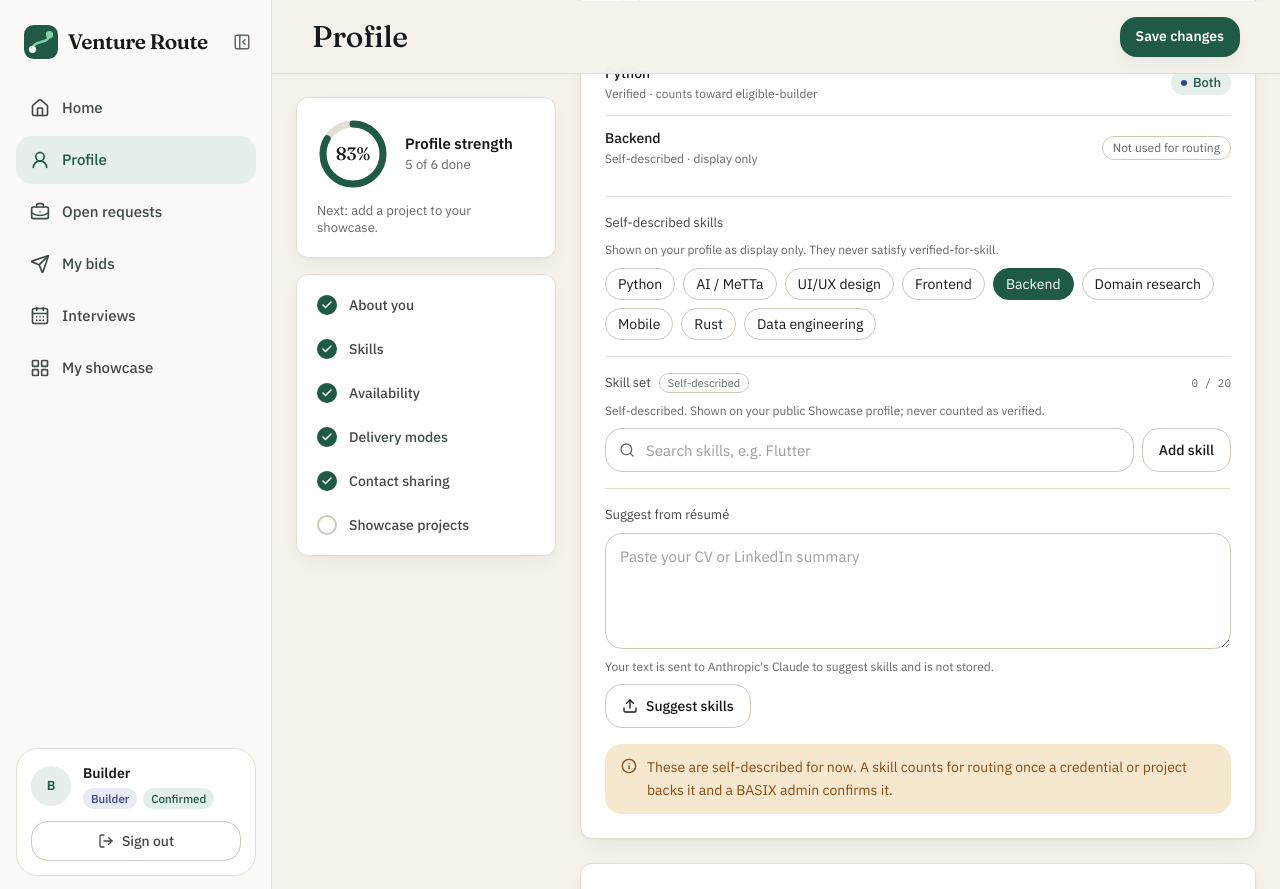
Test: /profile skill set and résumé suggestions (spec #86 stories 17-28) › suggests the nine vocabulary skills, accepts free text, and ignores a case-insensitive duplicate (acceptance §Part A Should 1)
(page scrolled)
Type "Growth hacking" into the field labelled "Skill set" at [869, 450], box [605, 428, 1134, 472]
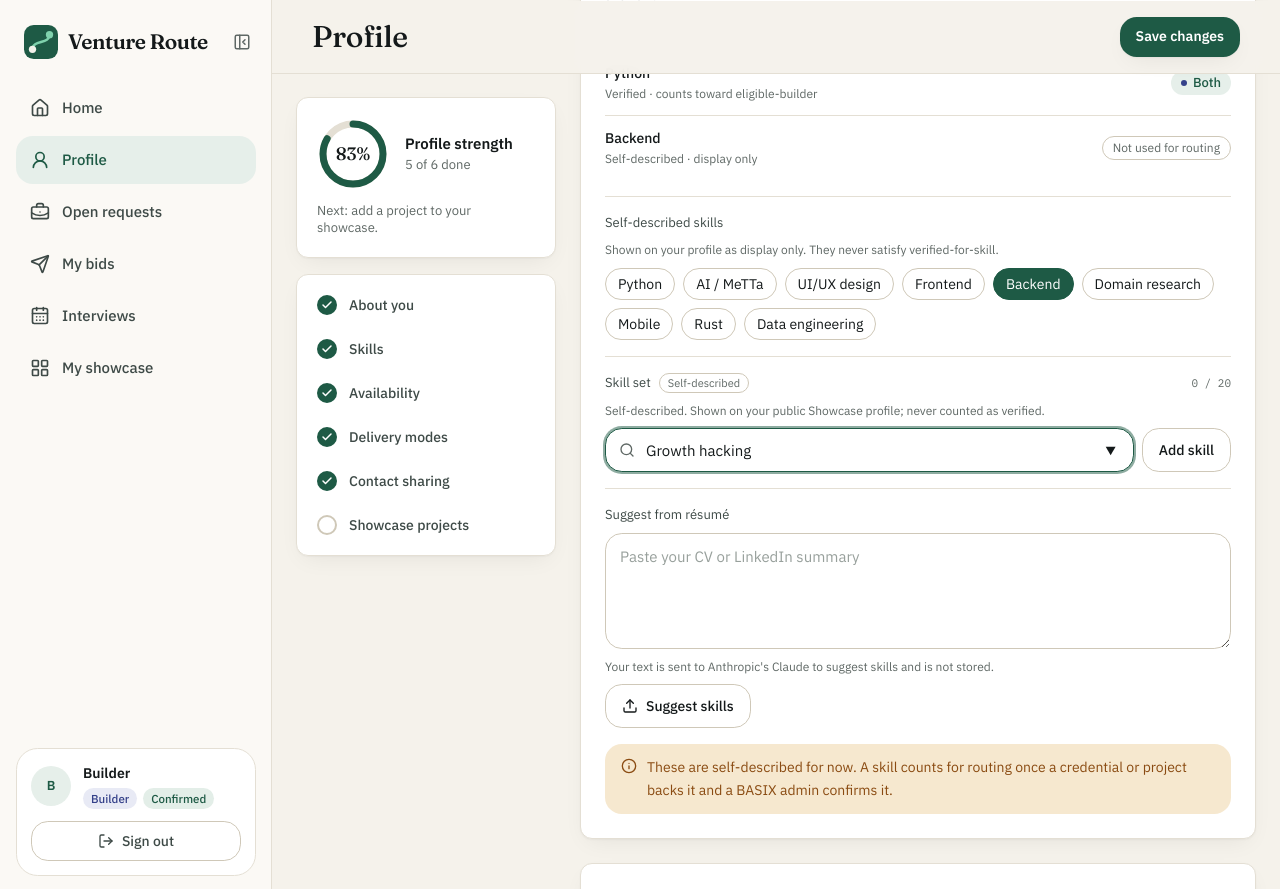
Click the button "Add skill" at [1186, 450], box [1142, 428, 1231, 472]
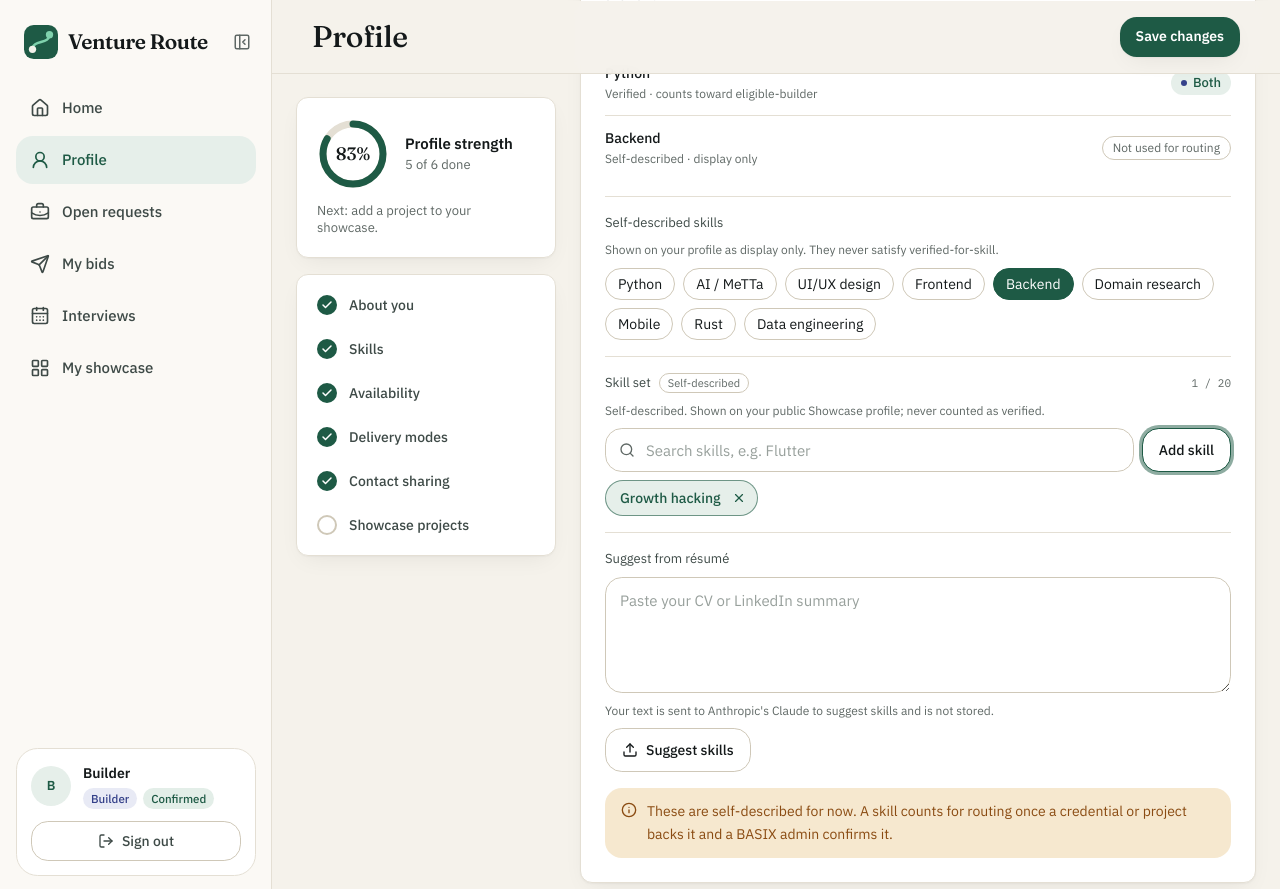
Result: the text "Growth hacking" is shown at [620, 488, 721, 509]
Result: the text "1 / 20" is shown at [1191, 375, 1231, 391]
Type "growth hacking" into the field labelled "Skill set" at [869, 450], box [605, 428, 1134, 472]
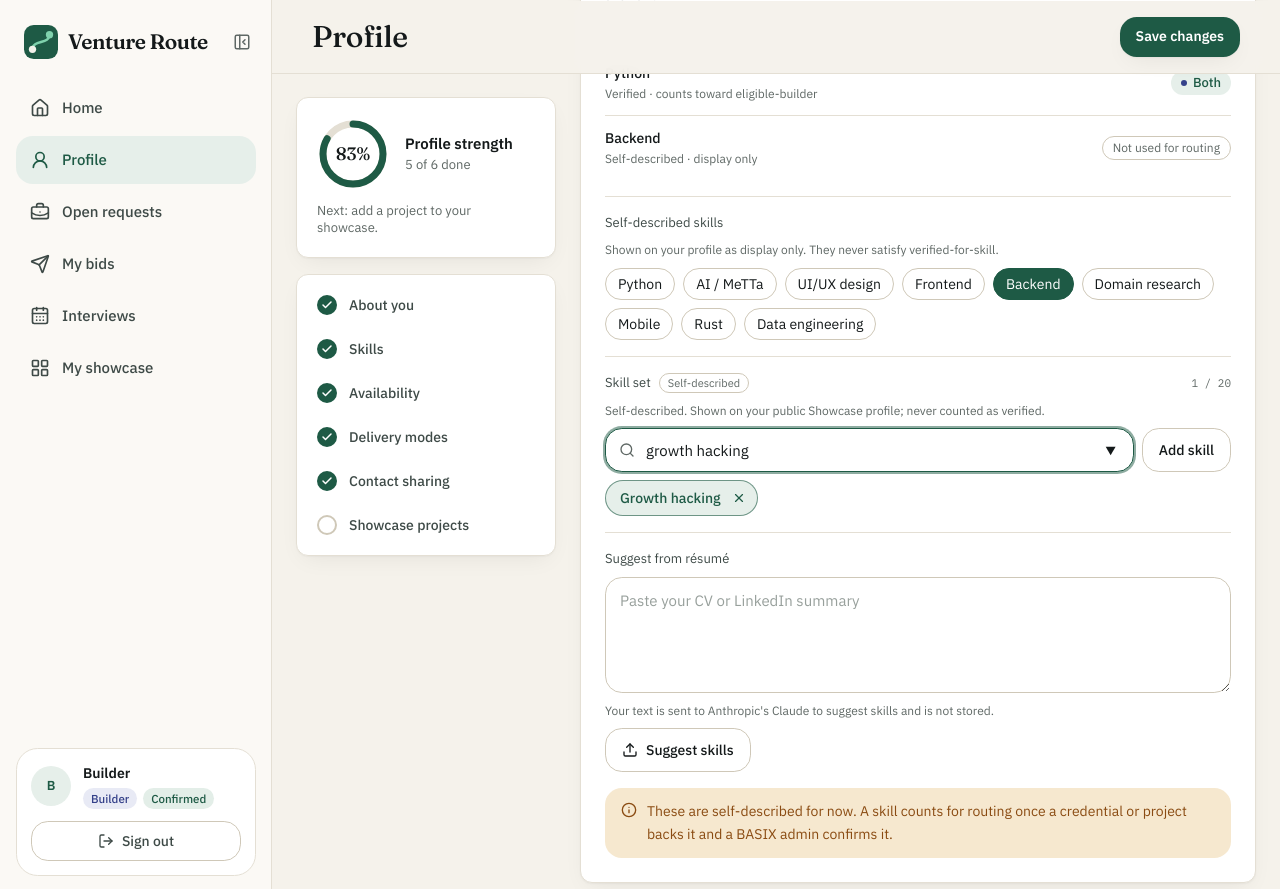
Click the button "Add skill" at [1186, 450], box [1142, 428, 1231, 472]
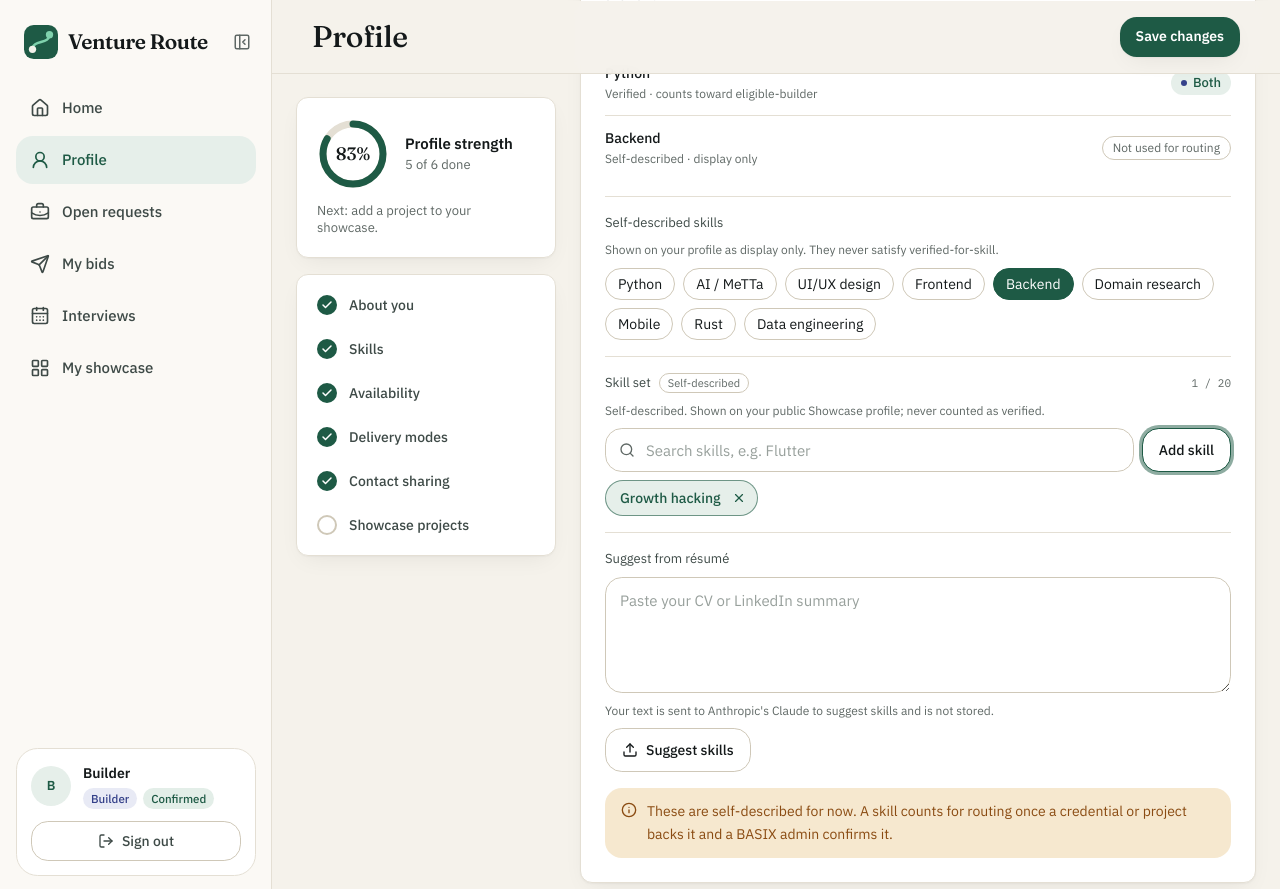
Result: the text "1 / 20" is shown at [1191, 375, 1231, 391]
Result: the text "Growth hacking" is shown once at [620, 488, 721, 509]
Click the button named "Remove Growth hacking" at [739, 498], box [727, 486, 751, 510]
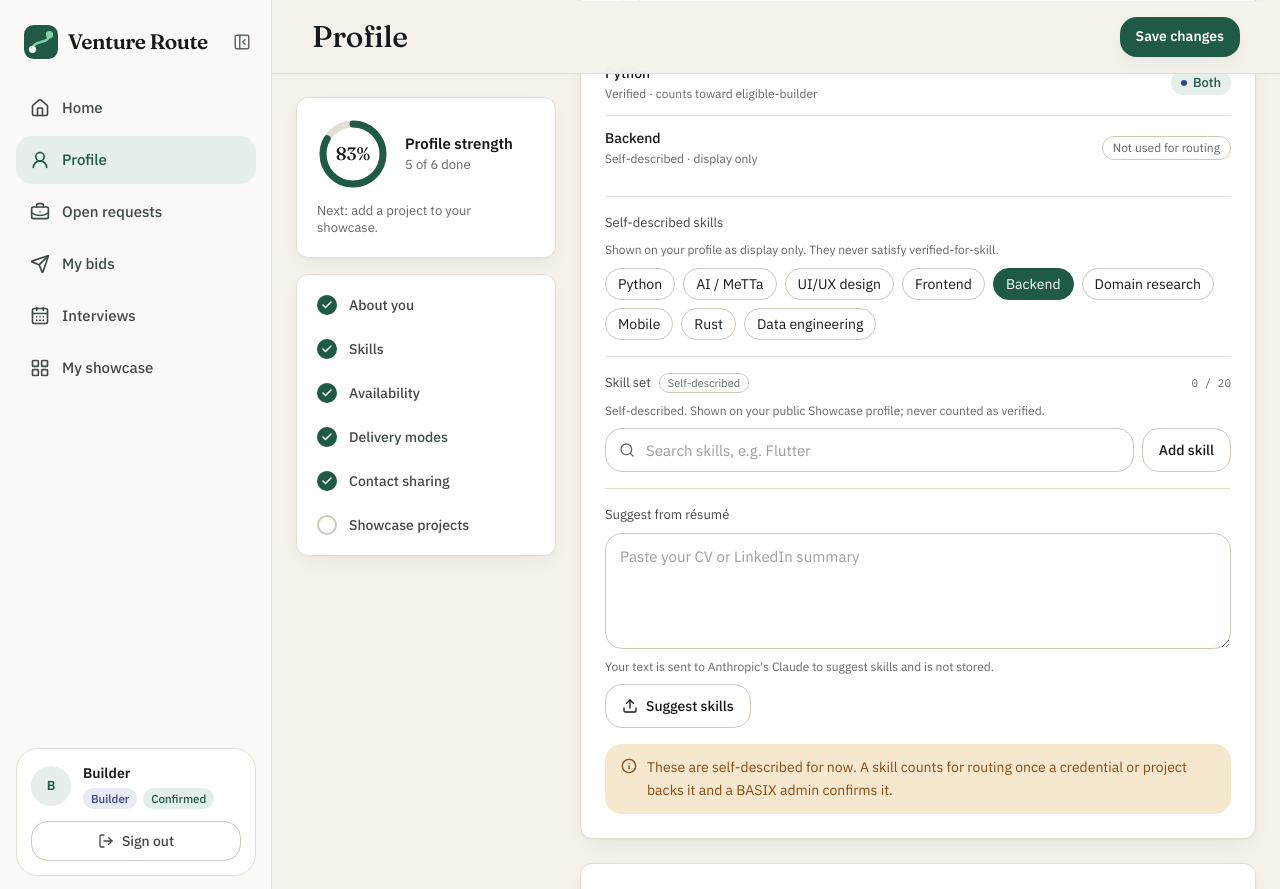
Result: the text "0 / 20" is shown at [1191, 375, 1231, 391]
